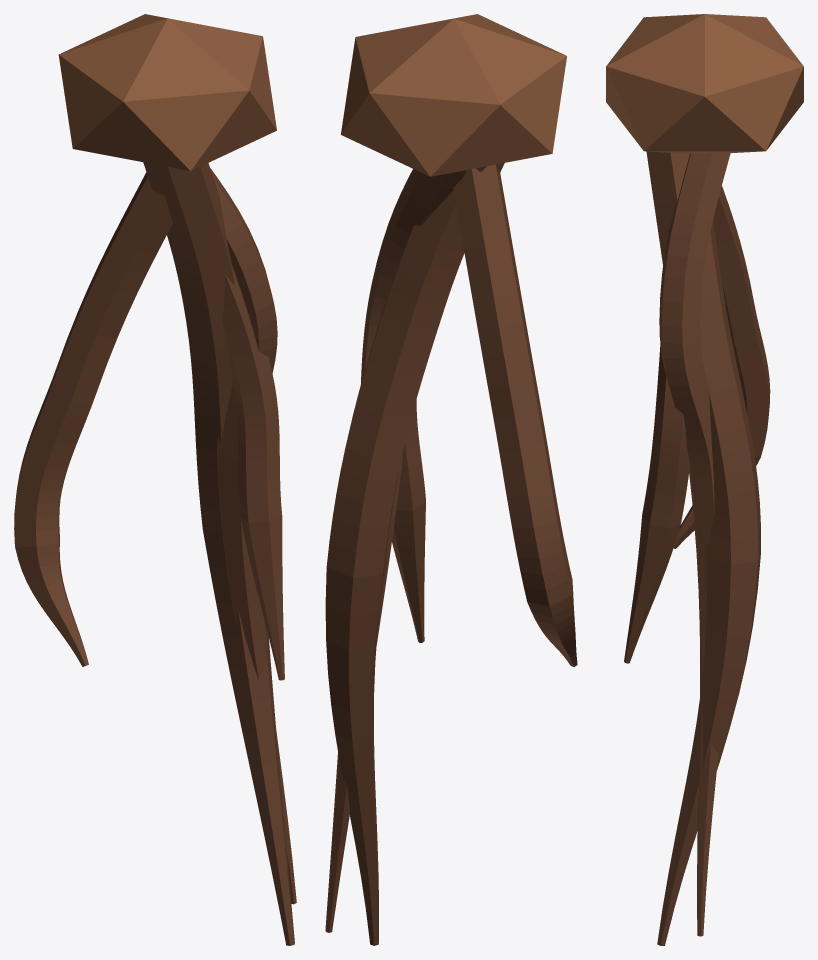
Rendered from root_tangle.glb.
The picture shows the model from 3 angles, left to right: view 1: azimuth 30°, elevation 25°; view 2: azimuth 150°, elevation 25°; view 3: azimuth 270°, elevation 25°; orthographic projection. The views are drawn at different scales.
Visible parts, largest first — view 1: root_tangle; view 2: root_tangle; view 3: root_tangle.
Part boxes in pixels (x1,y1,x2,y2): root_tangle: (14,14,296,945); root_tangle: (325,14,577,945); root_tangle: (606,14,803,945).
Size of the model in its own units: 0.733 by 2.52 by 0.5104.
